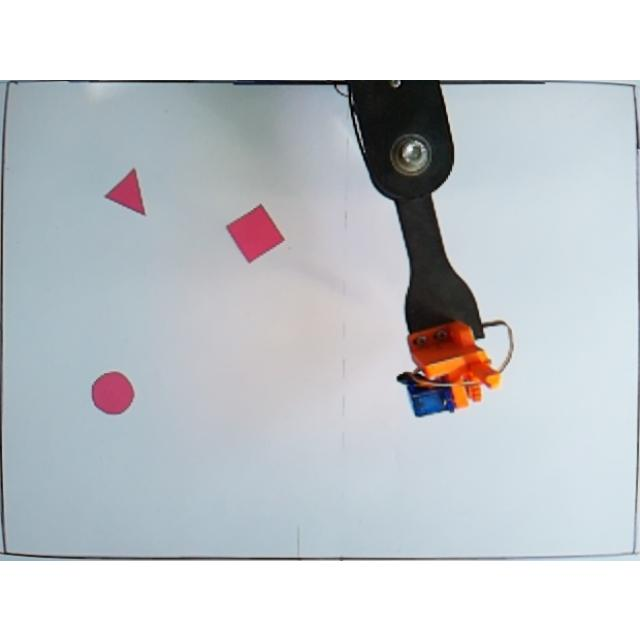pinkCircle: (92, 369, 136, 416)
pinkSquare: (226, 200, 286, 264)
pinkTriangle: (104, 167, 148, 216)
